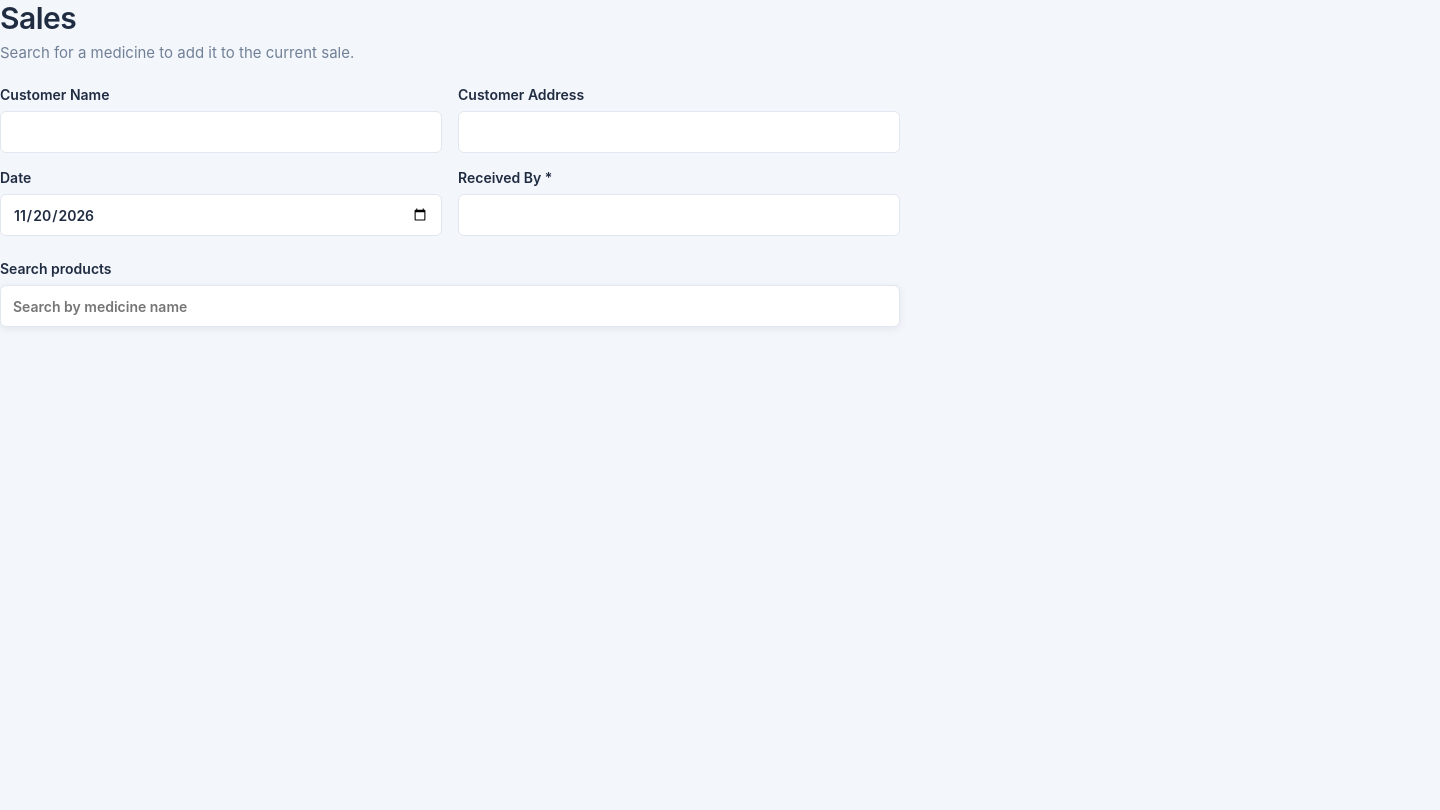
Test: Sales search-first product selection › selects a product, displays variants, and opens and closes the item modal
In the search field labelled "Search products": (450, 306) [0,285,900,327], type "pana"
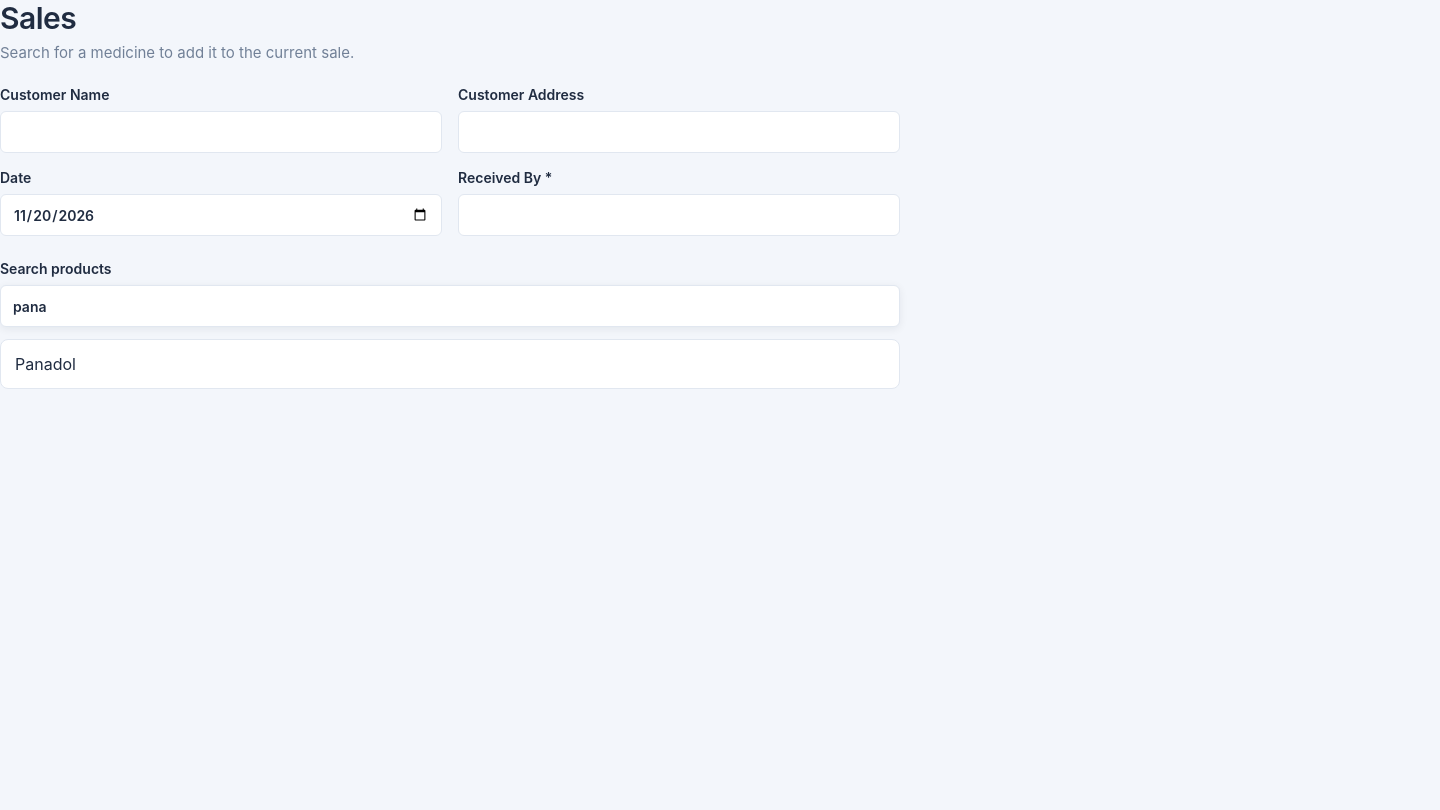
Click the button "Panadol": click(45, 364) [1,340,899,388]
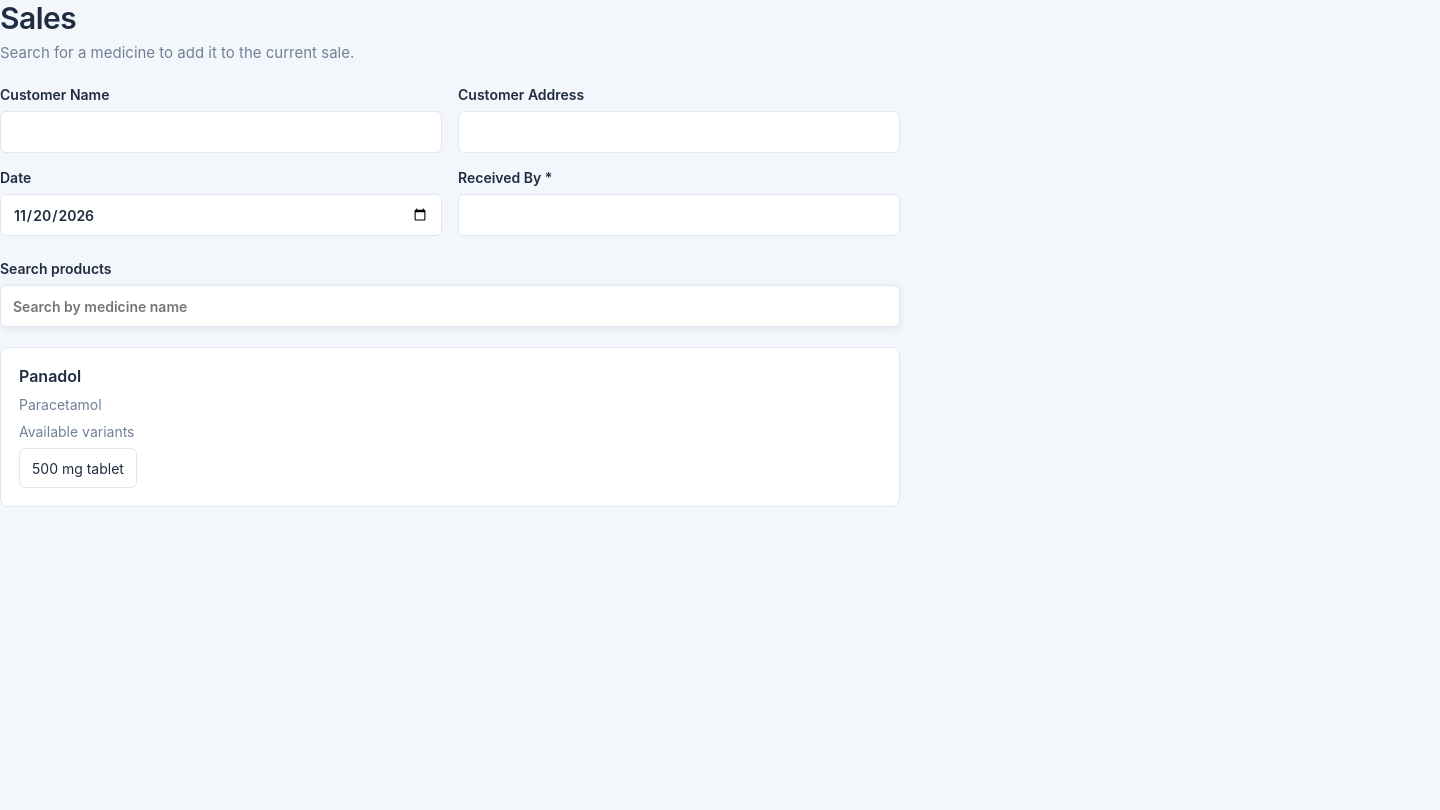
expect the search field labelled "Search products" is empty: met, box [0,285,900,327]
expect the element named "Selected product" shows "Panadol": met, box [19,366,81,386]
expect the button "500 mg tablet" is shown: met
Click the button "500 mg tablet": click(78, 468) [19,448,137,488]
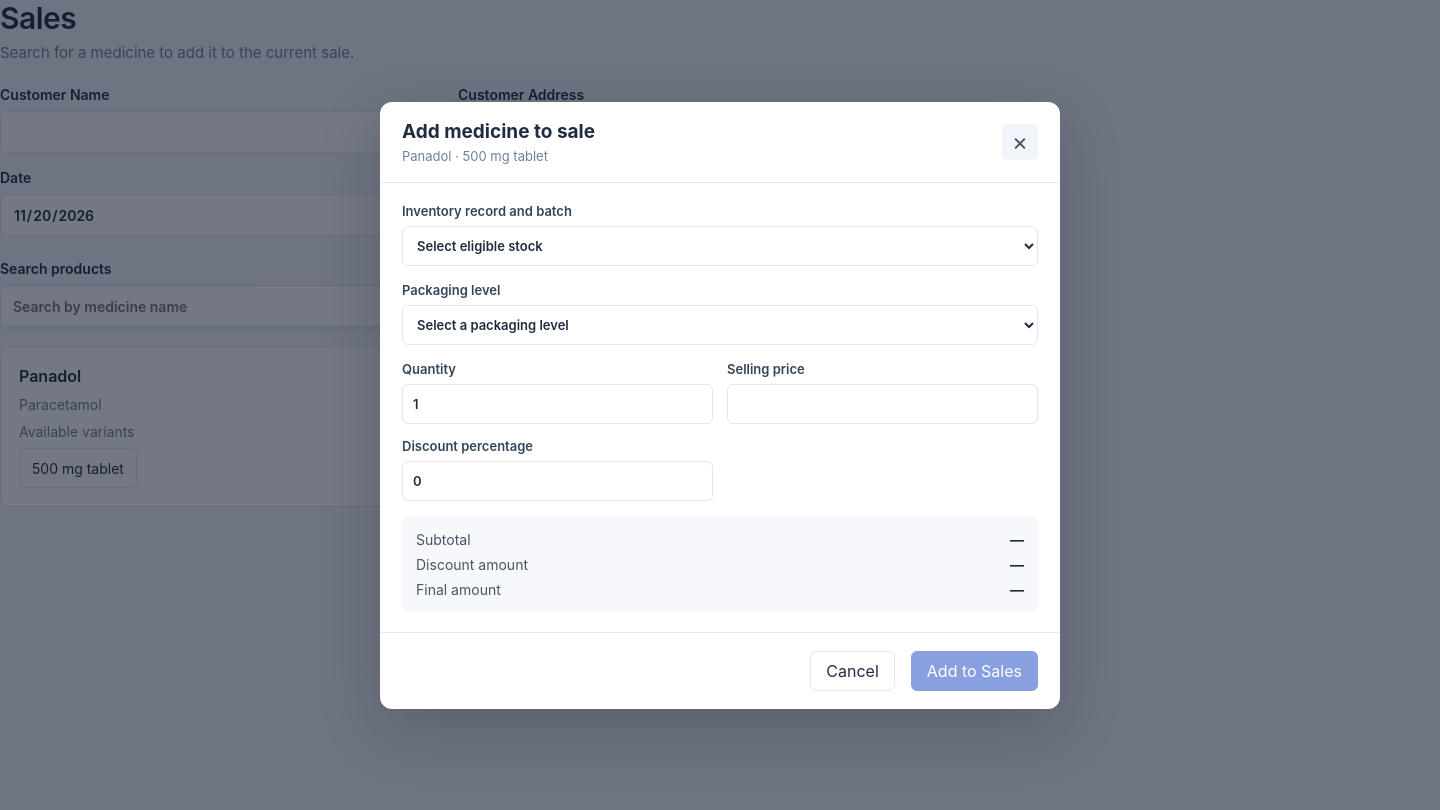
expect the dialog "Add medicine to sale" is shown: met, box [380,102,1060,708]
Click the button named "Close sales item": click(1020, 142) [1002,124,1038,160]
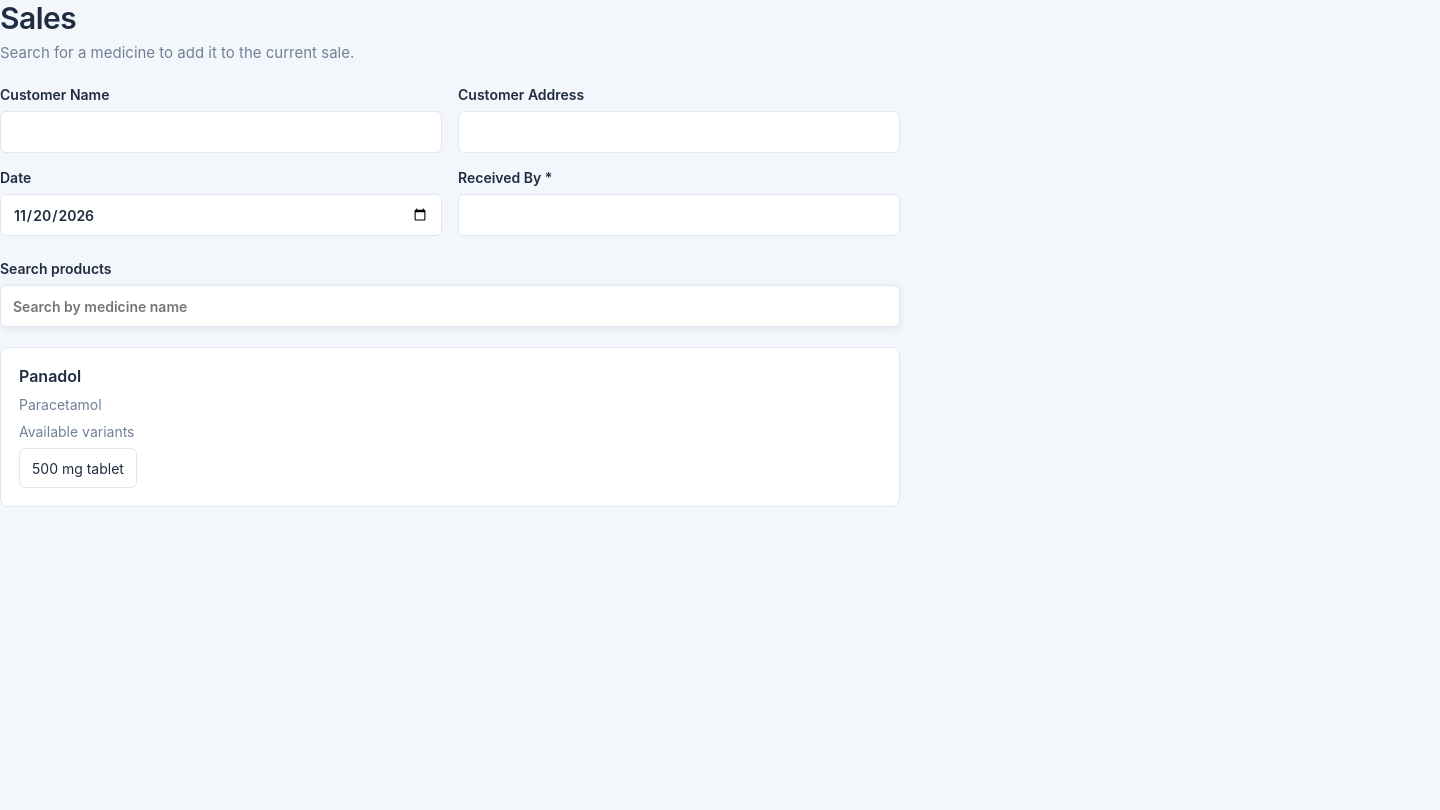
expect the dialog is gone: met
